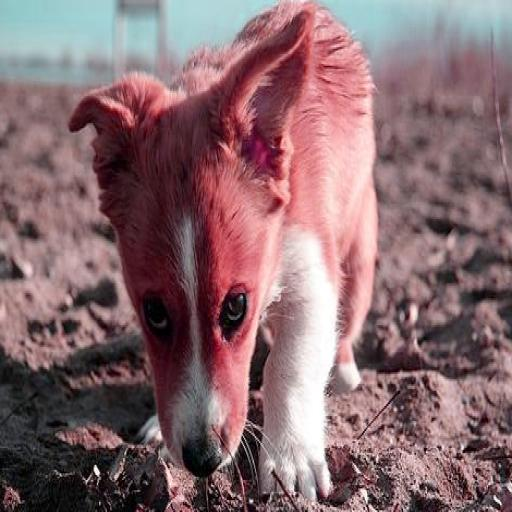dog_face: (89, 34, 313, 475)
